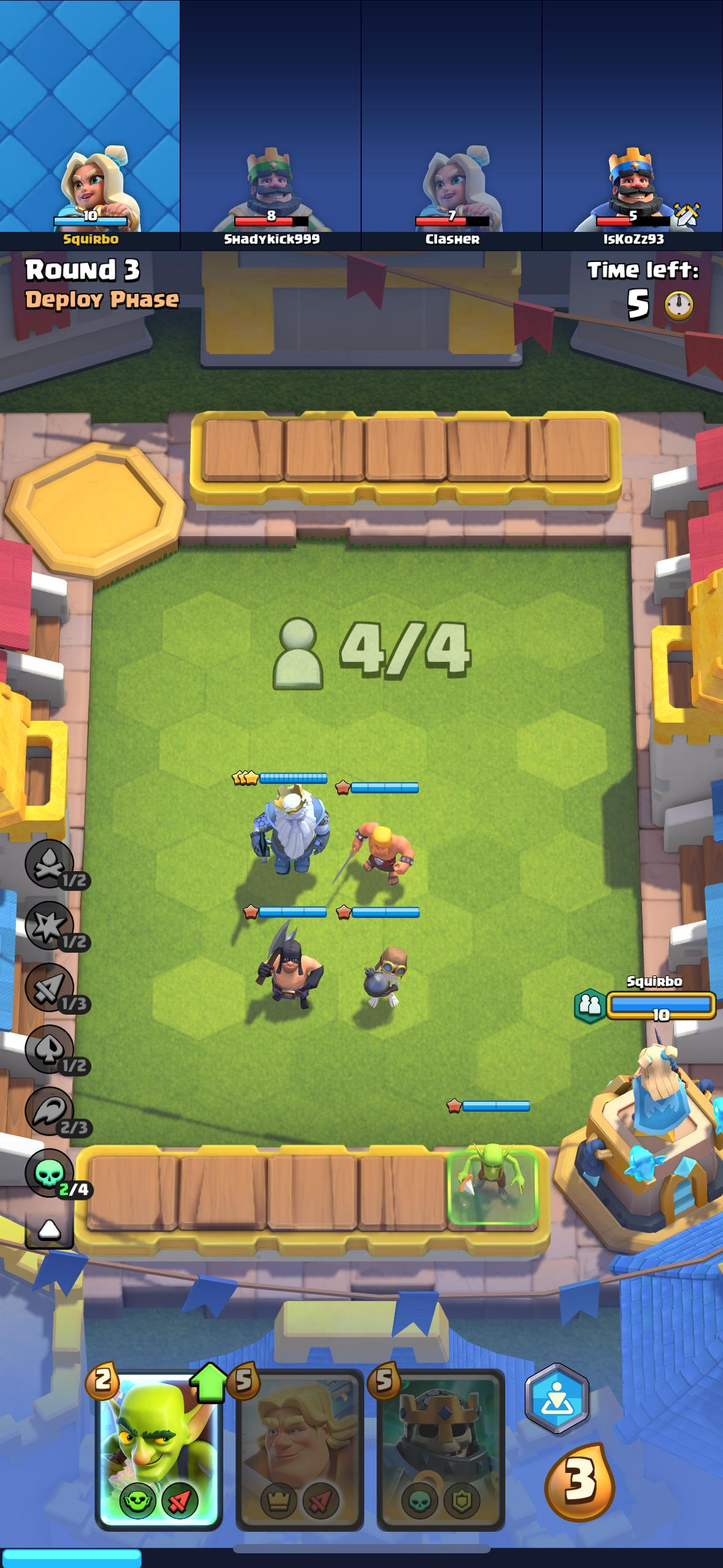barbarian: (343, 805, 418, 890)
bomber: (352, 933, 417, 1018)
executioner: (254, 917, 327, 1009)
ghost: (243, 783, 333, 879)
goblin: (445, 1139, 530, 1202)
hand-goblin: (98, 1374, 220, 1528)
hand-golden: (237, 1370, 360, 1529)
hand-king: (380, 1368, 500, 1524)
upgrade: (190, 1360, 229, 1403)
